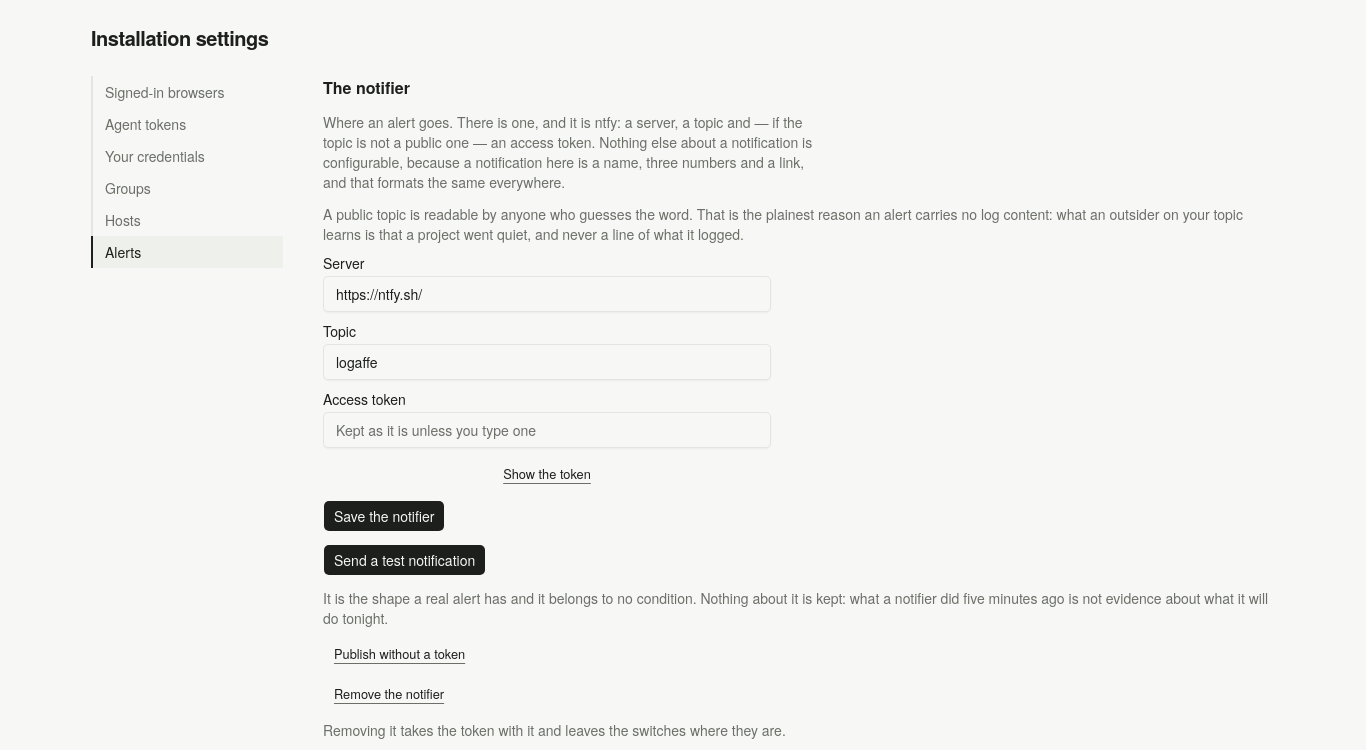
the alerts area › shows the token only when it is asked for
The width and height of the screenshot is (1366, 750).
Check: the password field labelled "Access token" is empty, box [323,412,771,448]
Click the button "Show the token" at coordinates (547, 474), box [323,460,771,488]
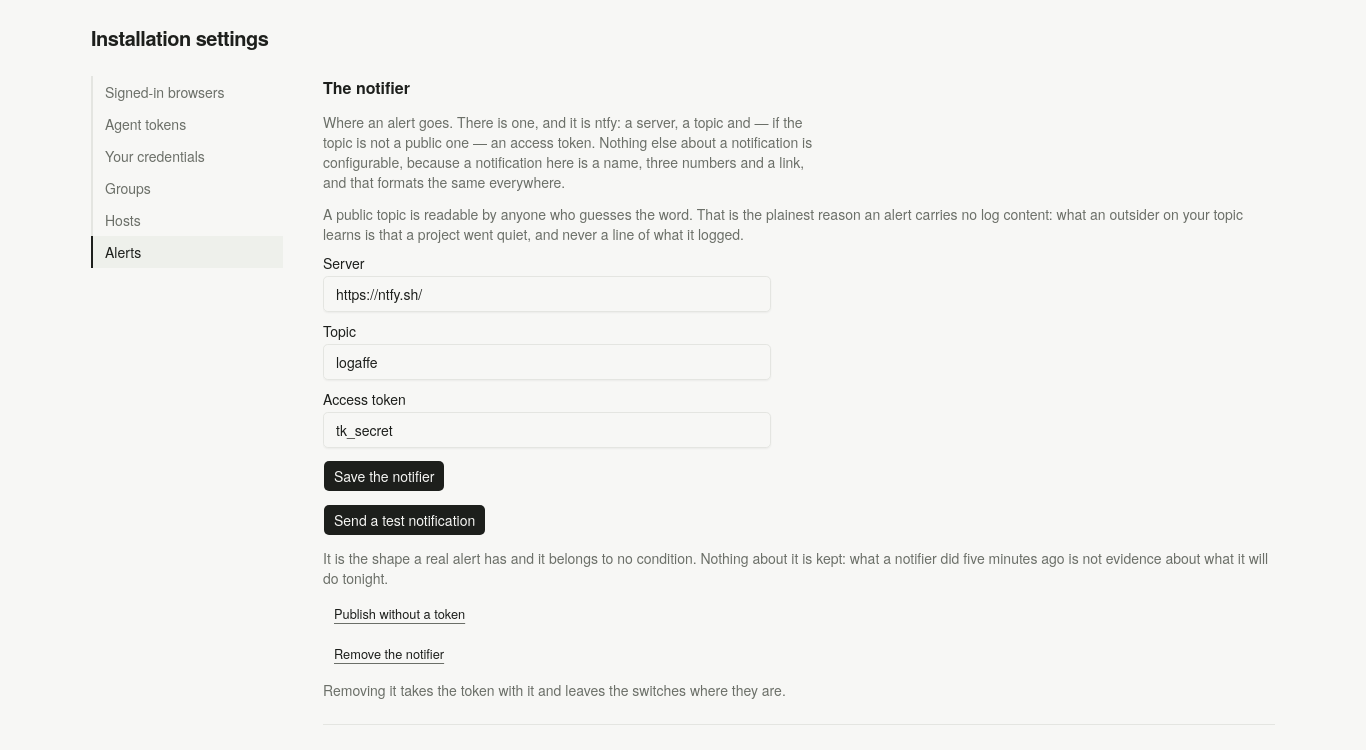
Check: the field labelled "Access token" holds "tk_secret", box [323,412,771,448]
